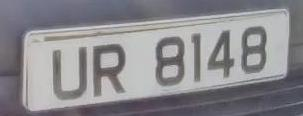1: (186, 24, 209, 95)
4: (203, 25, 240, 83)
8: (149, 27, 190, 97), (239, 20, 270, 79)
R: (87, 38, 134, 100)
U: (44, 42, 92, 104)
